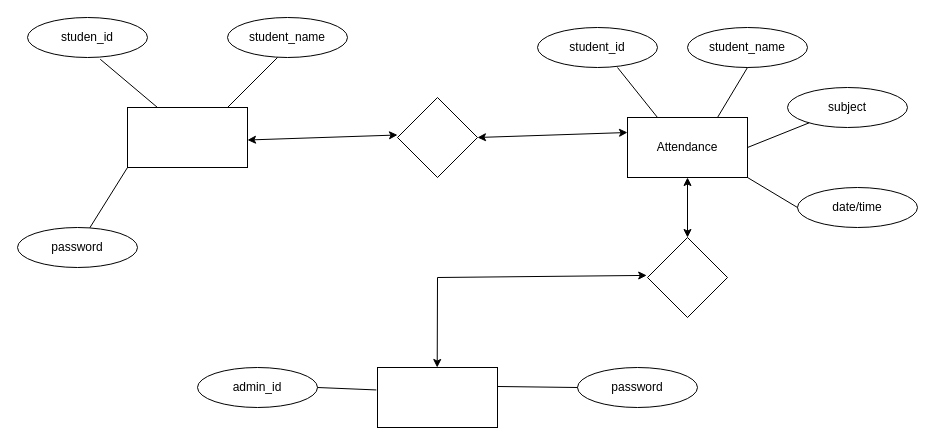
This 935x445 diagram has some shape labels left out. The shapes that lost their labels are listed below. From the top down, each one's box as (x1, y1, x2, y2) in pixels, then its label:
(126, 106, 248, 168): User/Student
(396, 96, 478, 178): has
(646, 236, 728, 318): manges
(376, 366, 498, 428): Admin
